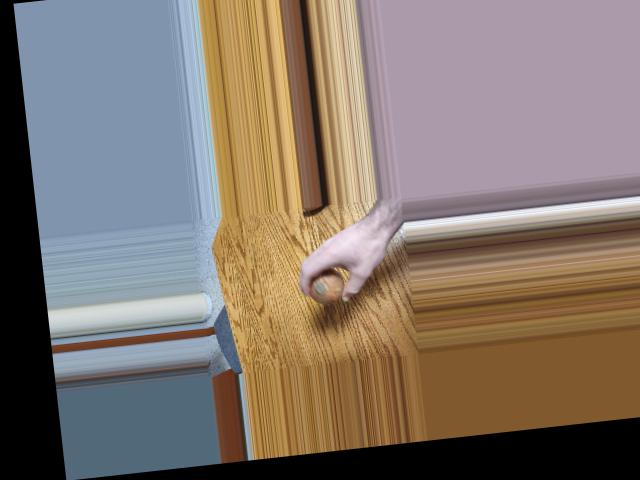onion: (305, 268, 347, 306)
